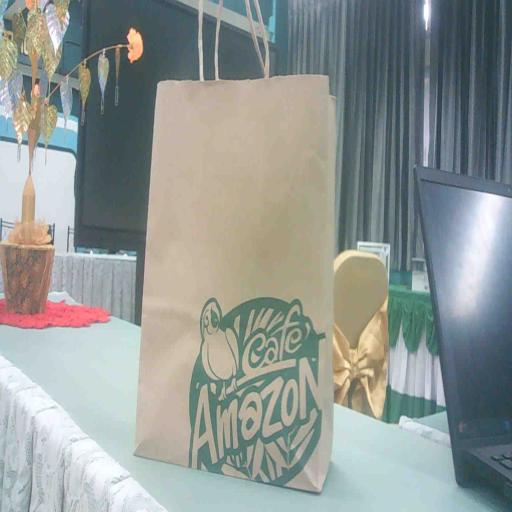bag: (131, 70, 348, 502)
